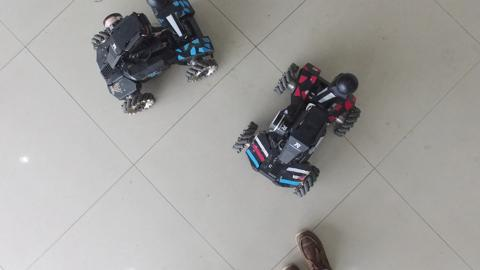chariot: (228, 55, 377, 207), (89, 1, 221, 124)
